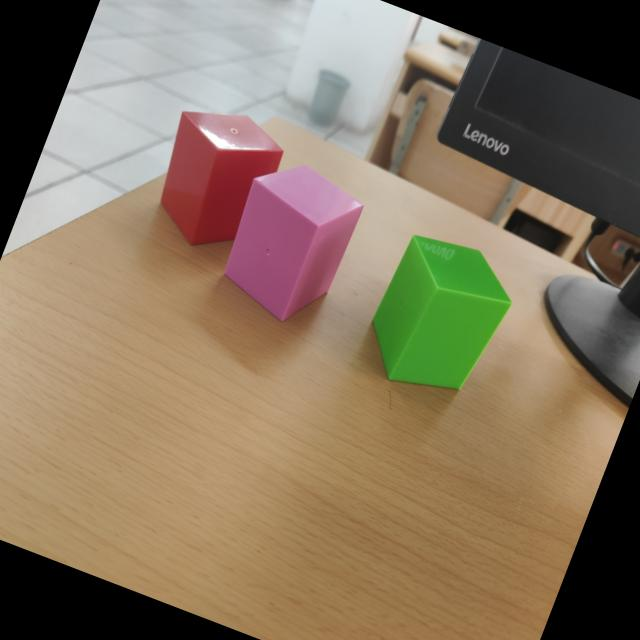green: (371, 236, 511, 392)
pink: (223, 167, 362, 323)
red: (160, 113, 283, 247)
